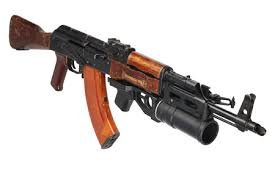gun: (7, 13, 268, 152)
